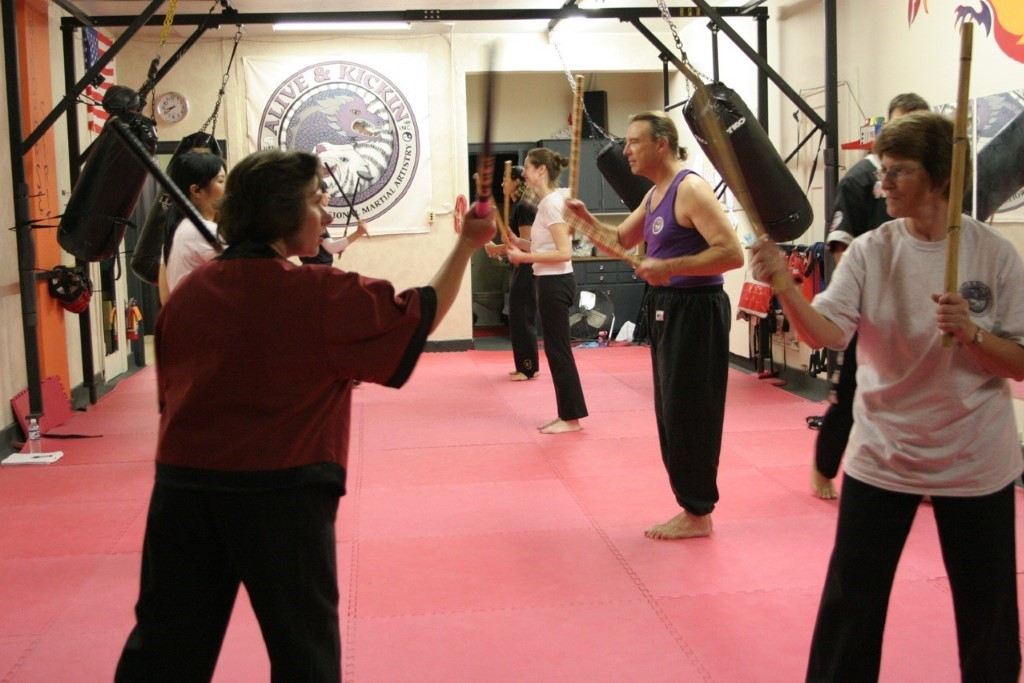baston_e: (685, 86, 788, 280), (107, 129, 225, 245), (936, 30, 977, 331), (523, 187, 635, 268), (472, 178, 518, 262), (324, 165, 369, 234), (481, 47, 499, 218), (568, 81, 584, 196), (338, 180, 360, 255), (502, 163, 513, 232)
baston_v: (935, 323, 959, 353), (767, 274, 791, 297), (955, 16, 975, 40), (104, 110, 122, 131), (659, 276, 675, 291), (573, 69, 587, 82), (470, 170, 480, 182), (335, 252, 343, 261), (365, 232, 373, 240), (512, 261, 520, 269), (504, 158, 512, 165), (323, 158, 327, 166), (356, 175, 362, 180)
